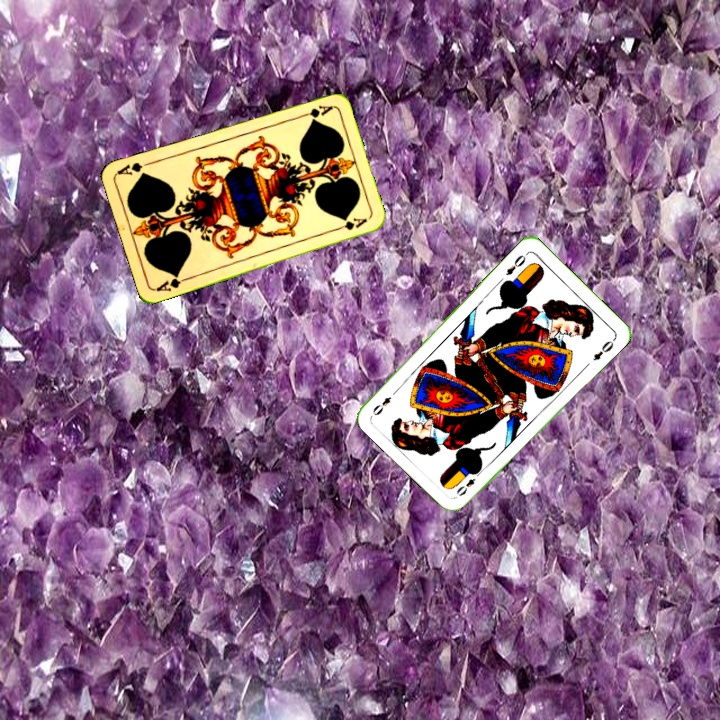EO: (452, 466, 484, 499), (501, 249, 530, 278)
GA: (152, 270, 192, 294), (295, 101, 335, 121)
